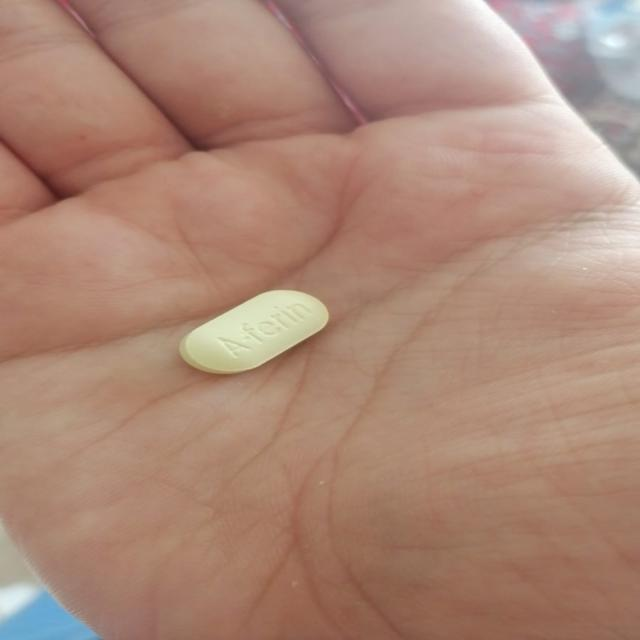pills: (176, 285, 338, 378)
